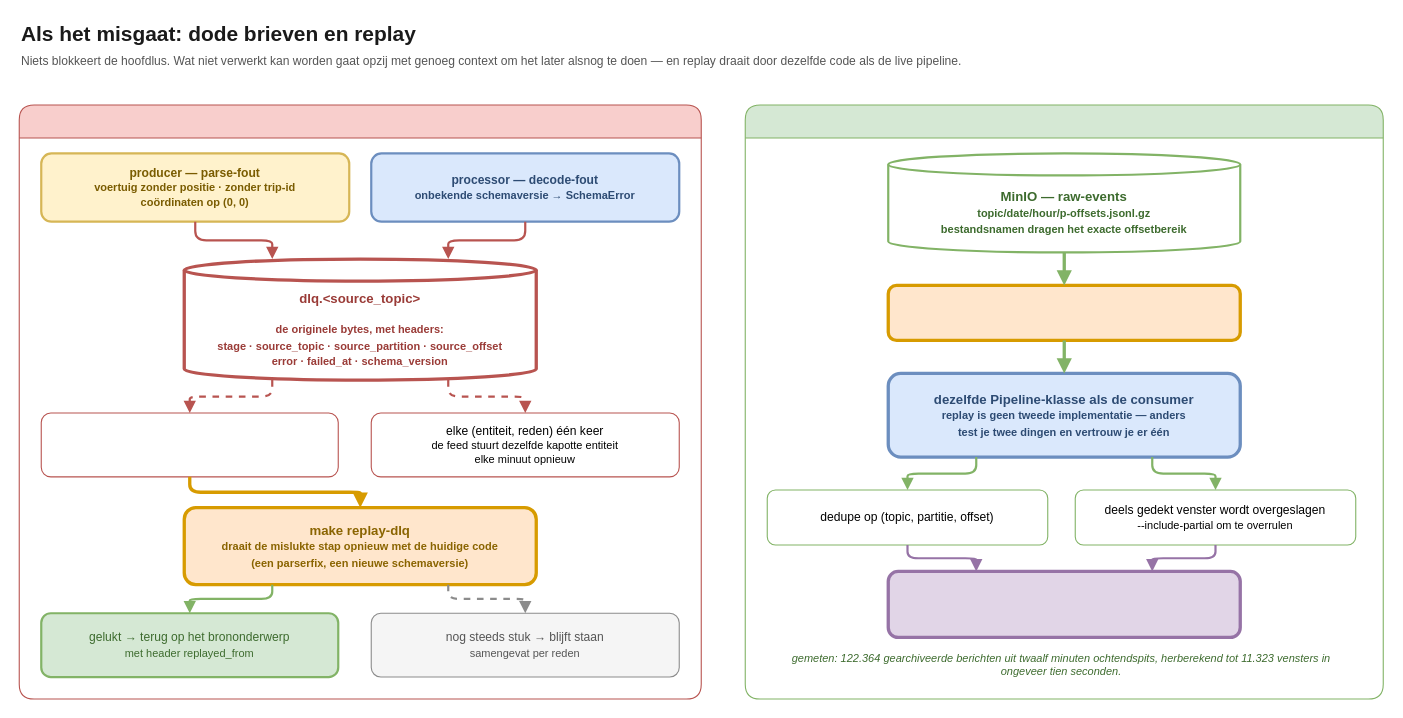
This 1403x718 diagram has some shape labels left out. The box of each missing label's shape, as (x1, y1, x2, y2) in pixels:
DODE BRIEVEN: (18, 104, 701, 699)
idempotente upsert in delay_aggregates een herberekend venster vervangt zichzelf: (886, 569, 1241, 639)
make replay FROM=… TO=…: (886, 283, 1241, 342)
REPLAY UIT HET ARCHIEF: (744, 104, 1383, 699)
zichtbaar binnen 10 s make dlq-peek · Grafana DLQ-paneel · health-strip: (40, 412, 338, 477)
